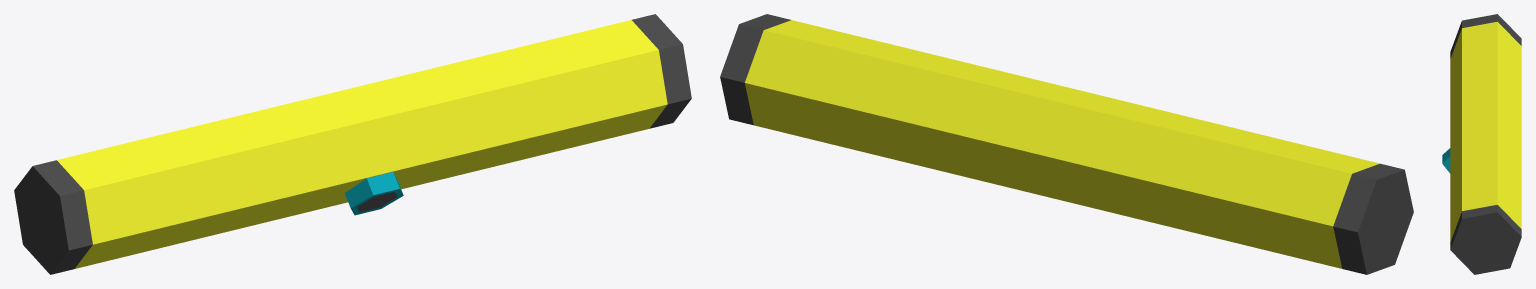
Rendered from portsHolder.fbx.
3 views of the same model, side by side, from view 1: azimuth 30°, elevation 25°; view 2: azimuth 150°, elevation 25°; view 3: azimuth 270°, elevation 25° (orthographic). The views are drawn at different scales.
Parts seen in each view (by area): view 1: Rod, Port; view 2: Rod; view 3: Rod, Port.
Boxes of the visible parts, x1,y1,x2,y2 form: Rod: [14, 14, 691, 274]; Port: [345, 172, 403, 215]; Rod: [720, 14, 1413, 274]; Rod: [1450, 14, 1521, 274]; Port: [1442, 148, 1450, 173].
Bounding box in the file's own units: 1288 × 207 × 219.
